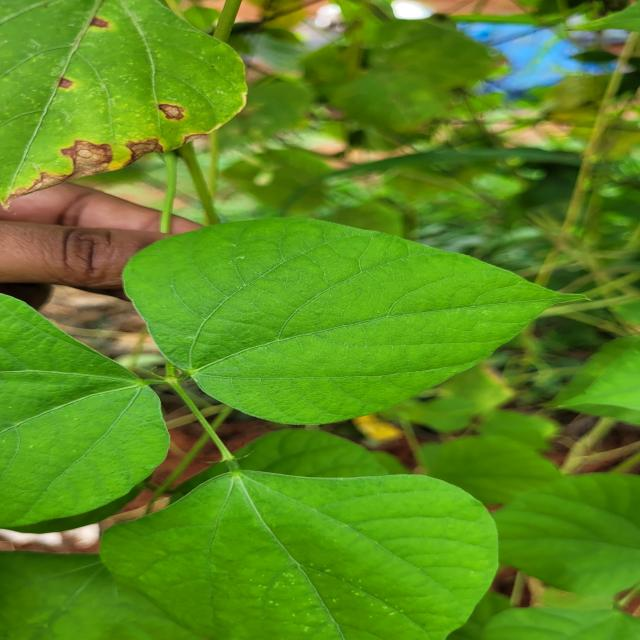Dolicos bean_healthy: (122, 214, 565, 423), (107, 468, 499, 640), (0, 289, 170, 532), (486, 472, 640, 588)
